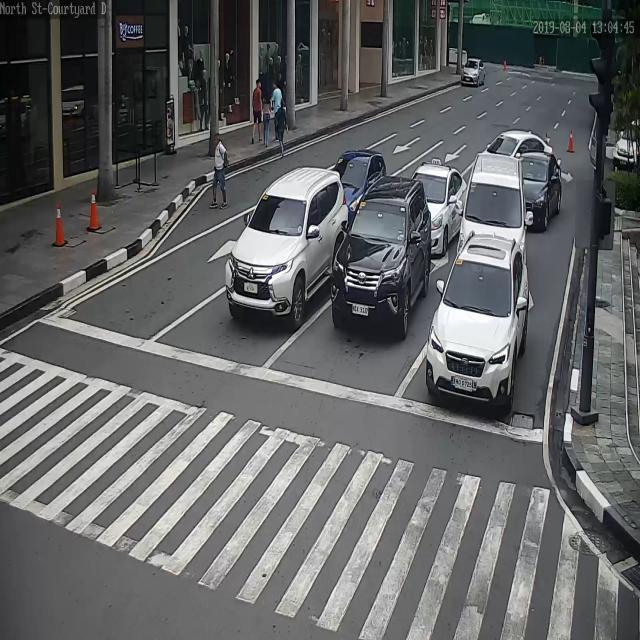car: (227, 165, 347, 326), (428, 233, 531, 410), (329, 171, 429, 337), (409, 164, 465, 259), (503, 149, 564, 232), (329, 151, 386, 209), (485, 130, 552, 158), (612, 126, 639, 177), (461, 59, 487, 86)
van: (461, 156, 528, 268)
